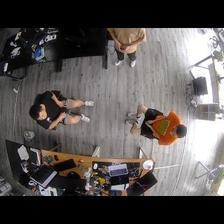normal: (29, 89, 96, 132), (127, 102, 188, 147), (105, 28, 148, 68)
